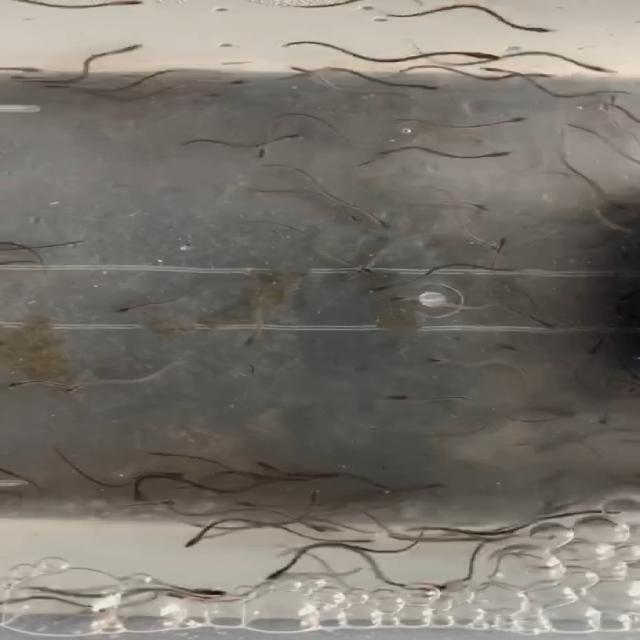active_glass_eel: (574, 59, 626, 78), (286, 61, 330, 82), (432, 576, 483, 594), (98, 40, 148, 58), (364, 211, 406, 232), (514, 64, 558, 84), (183, 582, 229, 600), (398, 582, 444, 600), (184, 88, 232, 105), (178, 526, 212, 550), (208, 74, 255, 91), (460, 49, 520, 62), (0, 62, 48, 78), (121, 486, 158, 506), (509, 20, 561, 34), (142, 467, 190, 482), (5, 374, 44, 392), (476, 60, 514, 78), (92, 0, 152, 11), (145, 448, 189, 462), (61, 378, 95, 396), (406, 78, 444, 94), (494, 336, 532, 352), (241, 326, 271, 346), (472, 146, 518, 159), (244, 142, 274, 161), (268, 128, 308, 142), (461, 198, 491, 216), (352, 262, 390, 276), (478, 240, 507, 258), (303, 522, 346, 534), (112, 298, 144, 314), (334, 208, 364, 225), (496, 112, 532, 126), (34, 79, 70, 93), (250, 456, 280, 472), (378, 391, 416, 403), (389, 290, 421, 304), (534, 316, 562, 332), (301, 488, 323, 507), (489, 236, 514, 250), (366, 284, 398, 294), (424, 355, 454, 365)
